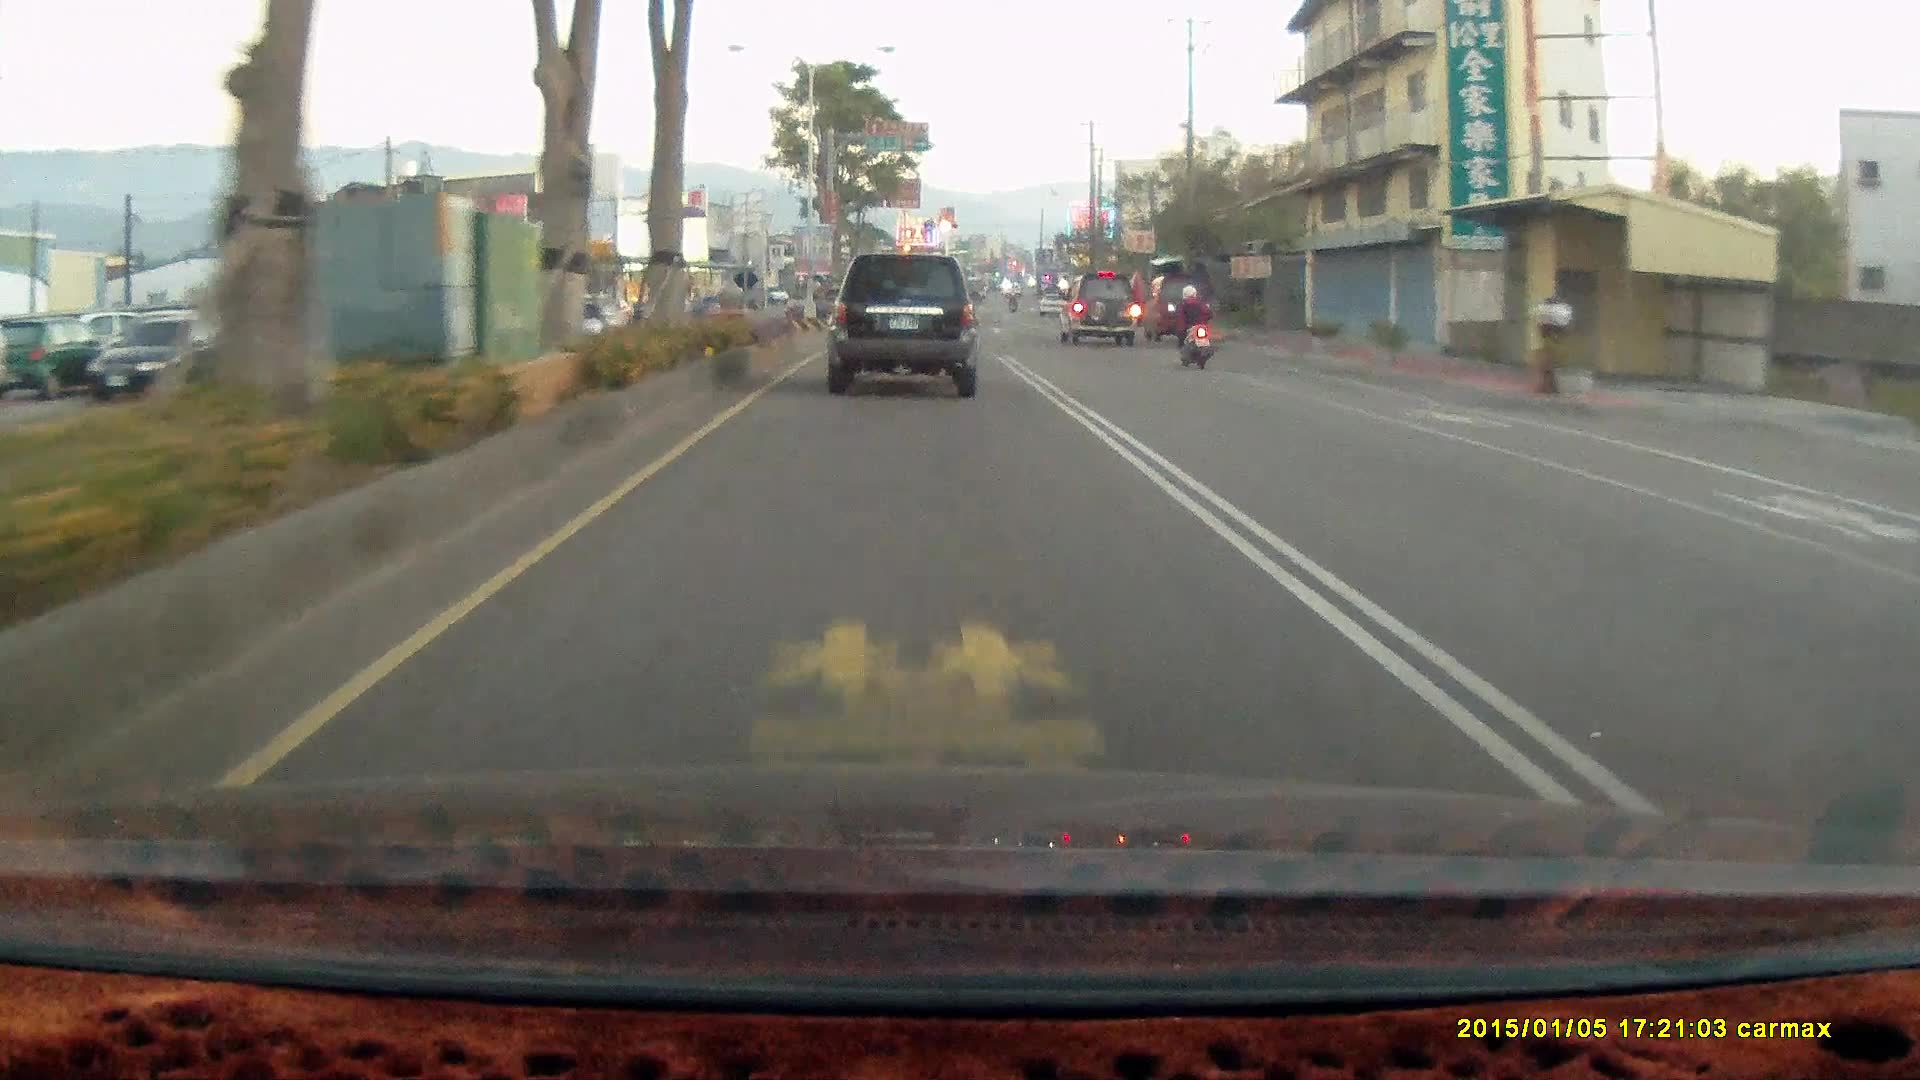rider: (1161, 279, 1223, 373), (1162, 287, 1212, 374)
vehicle: (830, 256, 989, 397), (825, 253, 981, 395), (84, 316, 248, 402), (1064, 276, 1149, 351), (1055, 275, 1140, 348), (1145, 275, 1215, 351), (1143, 275, 1212, 344)
